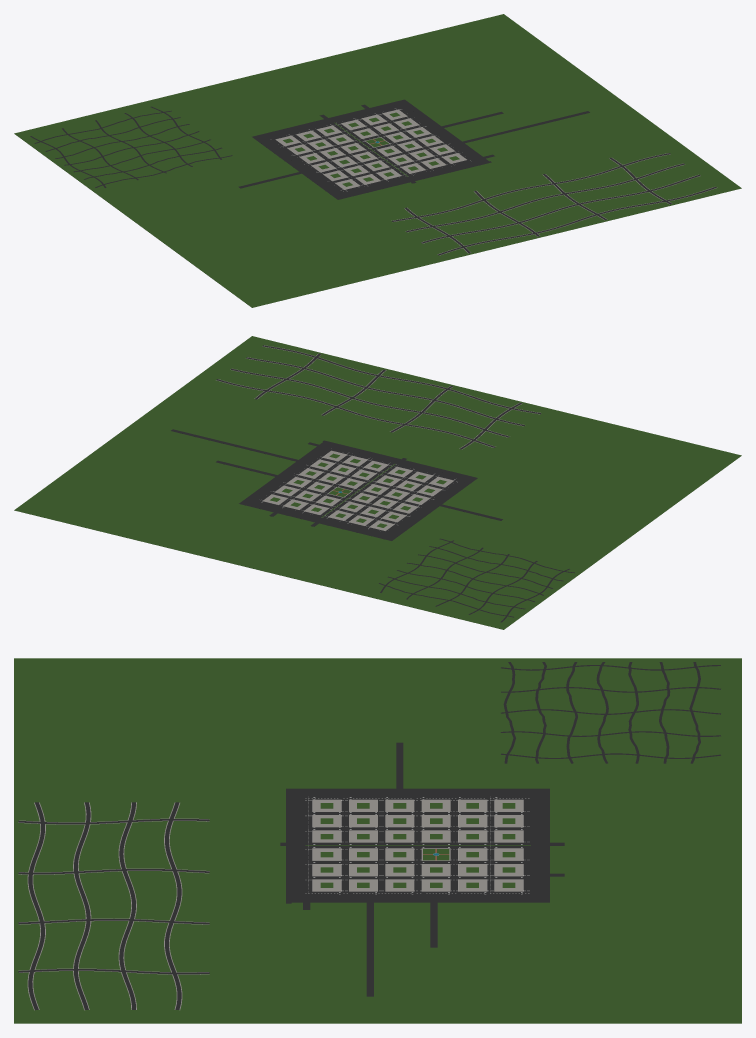
Rendered from zemin.glb.
The picture shows the model from 3 angles, top to bottom: view 1: azimuth 30°, elevation 25°; view 2: azimuth 150°, elevation 25°; view 3: azimuth 270°, elevation 25°; orthographic projection. The views are drawn at different scales.
Parts seen in each view (by area): view 1: Sehir_Zemin.001, Mahalle_Zemin.001, Semt_Yollari.001; view 2: Sehir_Zemin.001, Mahalle_Zemin.001, Semt_Yollari.001; view 3: Sehir_Zemin.001, Mahalle_Zemin.001, Semt_Yollari.001.
Part boxes in pixels (x1,y1,x2,y2): Sehir_Zemin.001: [14, 14, 741, 307]; Mahalle_Zemin.001: [261, 103, 481, 195]; Semt_Yollari.001: [30, 106, 717, 255]; Sehir_Zemin.001: [14, 336, 741, 629]; Mahalle_Zemin.001: [248, 444, 468, 537]; Semt_Yollari.001: [216, 345, 574, 622]; Sehir_Zemin.001: [14, 658, 741, 1023]; Mahalle_Zemin.001: [296, 792, 539, 898]; Semt_Yollari.001: [18, 662, 720, 1010].
Size of the model in its own units: 1900 by 4.1 by 1600.
